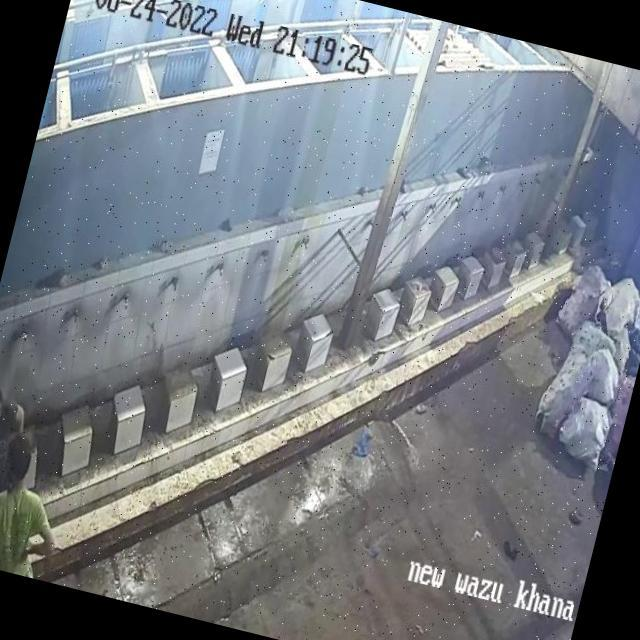person: (0, 429, 75, 580), (0, 377, 31, 500)
